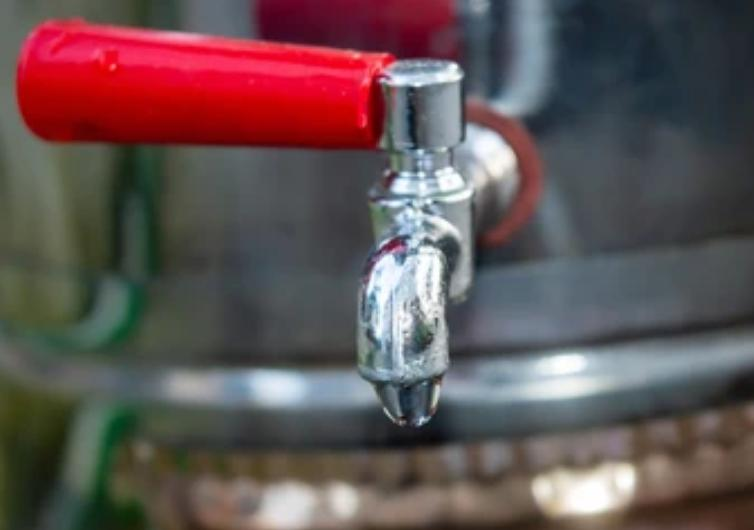water drop: (371, 374, 443, 427)
